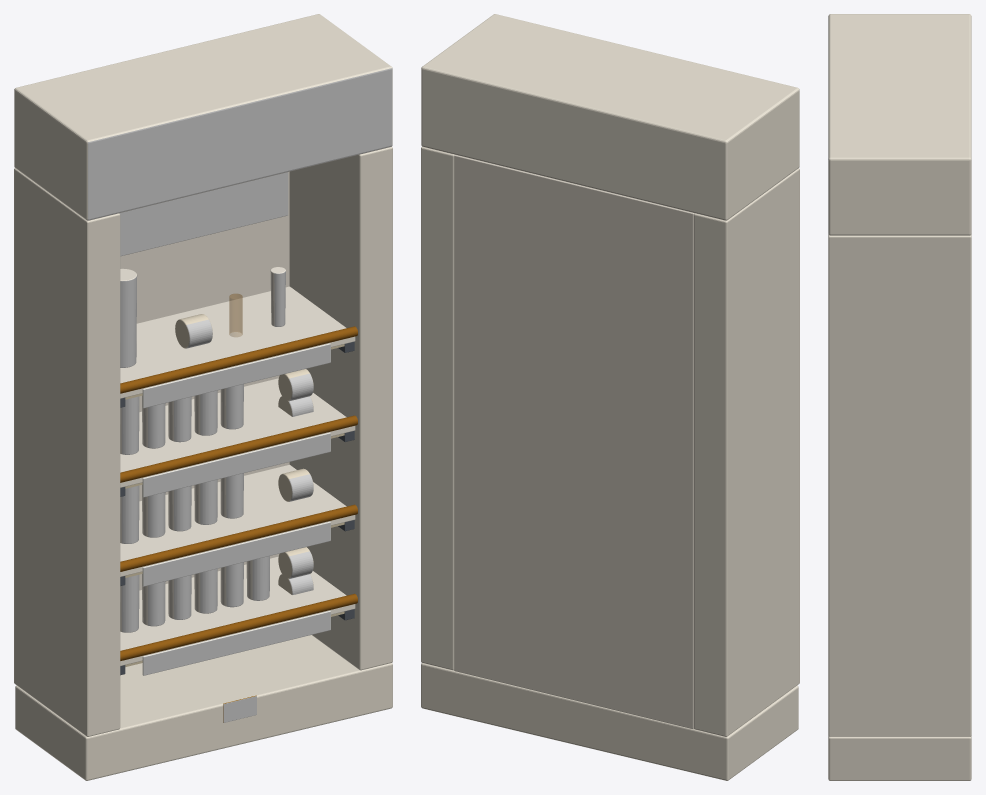
File: display_rack_2.obj
3 renders of one model, left to right at view 1: azimuth 30°, elevation 25°; view 2: azimuth 150°, elevation 25°; view 3: azimuth 270°, elevation 25°, orthographic. The views are drawn at different scales.
Visible parts, largest first — view 1: side.panel_1, crown.top, side.panel_2, base.plinth, back.panel, shelf.deck_4, poster.graphic, shelf.deck_2, shelf.deck_3, shelf.deck_1, shelf.talker_2, shelf.talker_3 (+29 smaller); view 2: back.panel, side.panel_1, crown.top, side.panel_2, base.plinth; view 3: side.panel_2, crown.top, base.plinth.
Boxes of the visible parts, x1=… form: side.panel_1: x1=14, y1=168, x2=120, y2=736; crown.top: x1=14, y1=14, x2=392, y2=220; side.panel_2: x1=289, y1=146, x2=392, y2=670; base.plinth: x1=15, y1=635, x2=392, y2=780; back.panel: x1=120, y1=171, x2=289, y2=590; shelf.deck_4: x1=120, y1=286, x2=355, y2=398; poster.graphic: x1=119, y1=172, x2=288, y2=256; shelf.deck_2: x1=120, y1=464, x2=355, y2=576; shelf.deck_3: x1=120, y1=378, x2=355, y2=487; shelf.deck_1: x1=120, y1=556, x2=355, y2=665; shelf.talker_2: x1=142, y1=521, x2=330, y2=586; shelf.talker_3: x1=142, y1=432, x2=330, y2=497; back.panel: x1=454, y1=155, x2=694, y2=728; side.panel_1: x1=693, y1=168, x2=799, y2=736; crown.top: x1=421, y1=14, x2=799, y2=220; side.panel_2: x1=421, y1=146, x2=454, y2=670; base.plinth: x1=421, y1=663, x2=798, y2=780; side.panel_2: x1=828, y1=234, x2=971, y2=736; crown.top: x1=828, y1=14, x2=971, y2=235; base.plinth: x1=828, y1=736, x2=971, y2=780.
Size of the model in its own units: 0.914 by 1.83 by 0.381.
